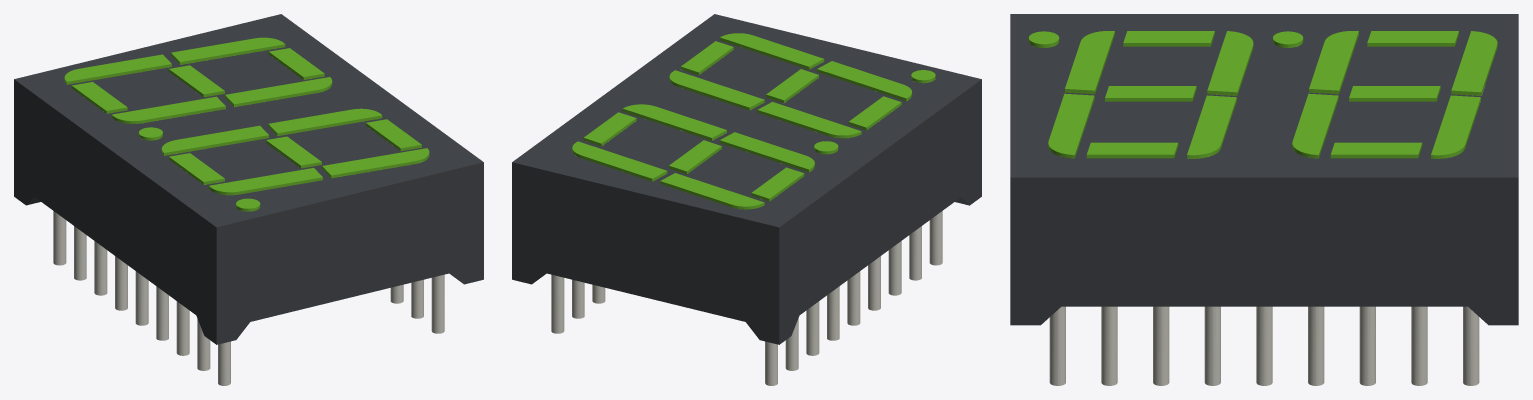
The model's file is kc-da56-11cgkwa.glb.
3 views of the same model, side by side, from view 1: azimuth 30°, elevation 25°; view 2: azimuth 150°, elevation 25°; view 3: azimuth 270°, elevation 25° (orthographic). The views are drawn at different scales.
Visible parts, largest first — view 1: 0.08333333333333333_0.08333333333333333_0.08333333333333333_, 0.16666666666666666_0.4166666666666667_0_0, 0.6666666666666666_0.6666666666666666_0.5833333333333334_0.8; view 2: 0.08333333333333333_0.08333333333333333_0.08333333333333333_, 0.16666666666666666_0.4166666666666667_0_0, 0.6666666666666666_0.6666666666666666_0.5833333333333334_0.8; view 3: 0.08333333333333333_0.08333333333333333_0.08333333333333333_, 0.16666666666666666_0.4166666666666667_0_0, 0.6666666666666666_0.6666666666666666_0.5833333333333334_0.8.
Boxes of the visible parts, x1,y1,x2,y2 form: 0.08333333333333333_0.08333333333333333_0.08333333333333333_: (14, 14, 483, 344); 0.16666666666666666_0.4166666666666667_0_0: (64, 37, 429, 211); 0.6666666666666666_0.6666666666666666_0.5833333333333334_0.8: (53, 211, 444, 385); 0.08333333333333333_0.08333333333333333_0.08333333333333333_: (512, 14, 981, 344); 0.16666666666666666_0.4166666666666667_0_0: (572, 33, 935, 209); 0.6666666666666666_0.6666666666666666_0.5833333333333334_0.8: (551, 211, 942, 385); 0.08333333333333333_0.08333333333333333_0.08333333333333333_: (1010, 14, 1518, 325); 0.16666666666666666_0.4166666666666667_0_0: (1028, 31, 1497, 158); 0.6666666666666666_0.6666666666666666_0.5833333333333334_0.8: (1049, 306, 1479, 385).
Bounding box in the file's own units: 1.91 × 1.22 × 2.5.
